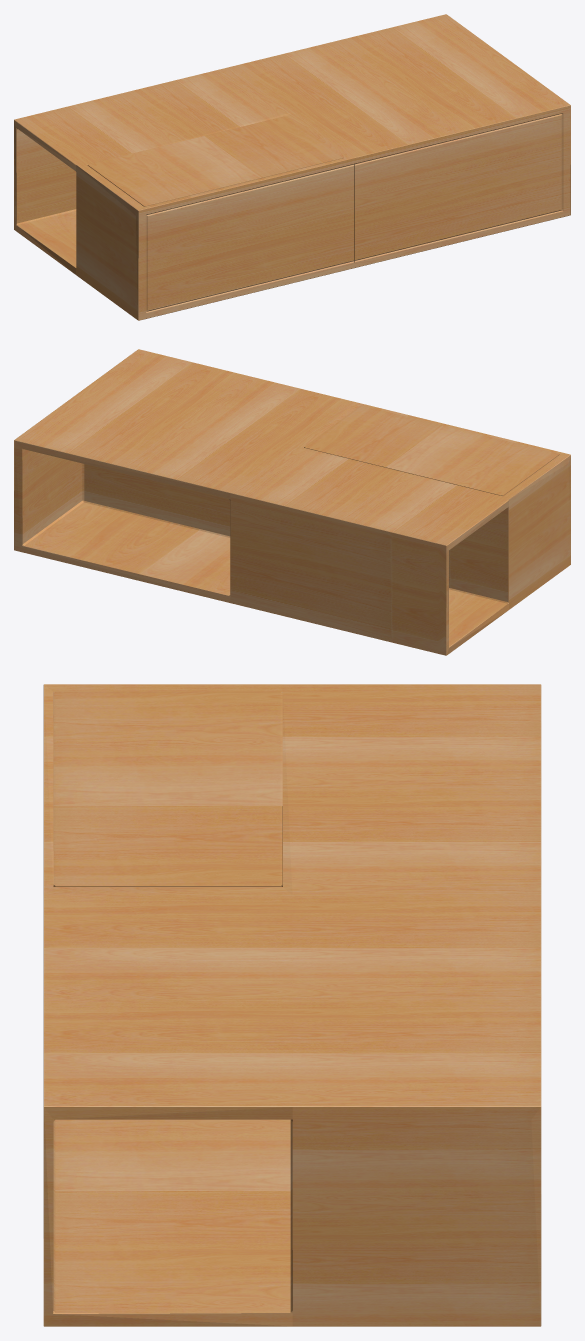
Rendered from furniture_train_wood_brick_c0.dae.
3 views of the same model, one above another, from view 1: azimuth 30°, elevation 25°; view 2: azimuth 150°, elevation 25°; view 3: azimuth 270°, elevation 25° (orthographic). The views are drawn at different scales.
Visible parts, largest first — view 1: aws_CoffeeTable_01_visual; view 2: aws_CoffeeTable_01_visual; view 3: aws_CoffeeTable_01_visual.
Part boxes in pixels (x1,y1,x2,y2): aws_CoffeeTable_01_visual: (14,14,570,320); aws_CoffeeTable_01_visual: (14,349,570,655); aws_CoffeeTable_01_visual: (43,684,541,1326).
Bounding box in the file's own units: 131 × 65.48 × 32.17.
1 material, 1 textured.
